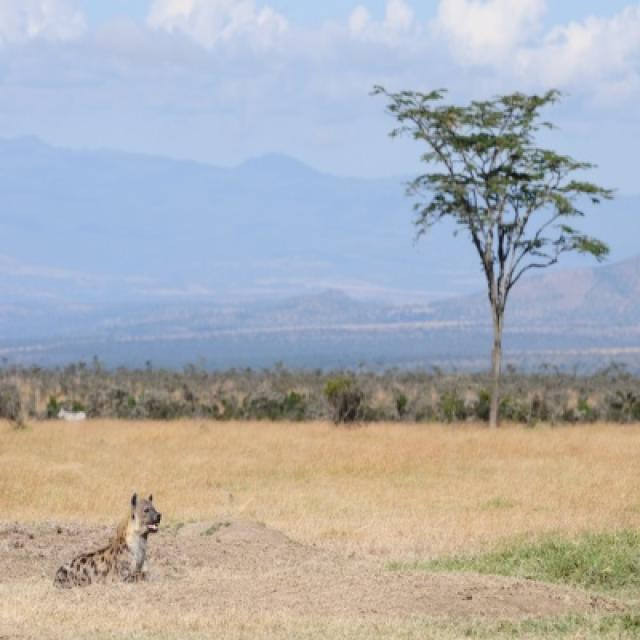hyena: (56, 493, 162, 587)
